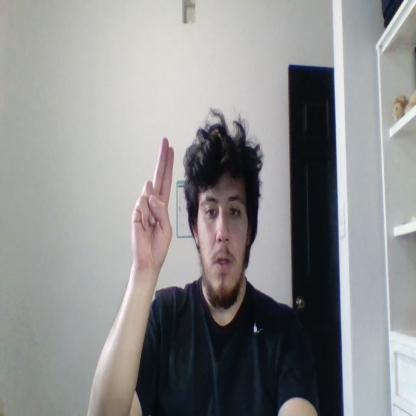U: (131, 136, 174, 271)
